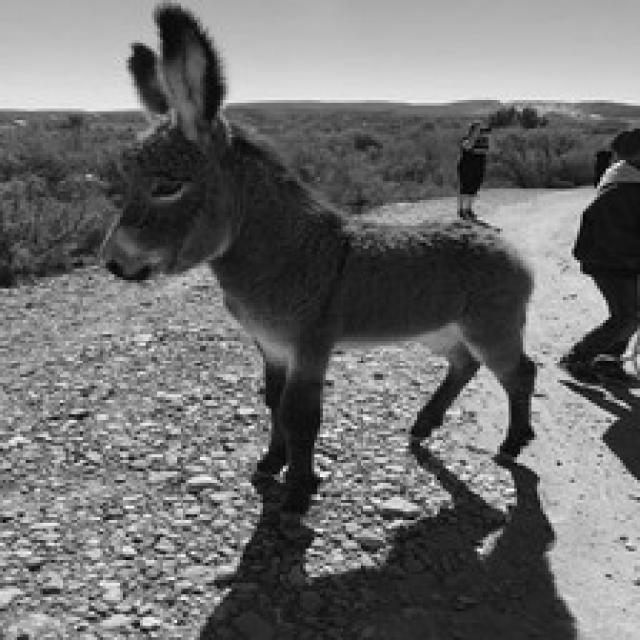Donkey: (97, 0, 537, 514)
